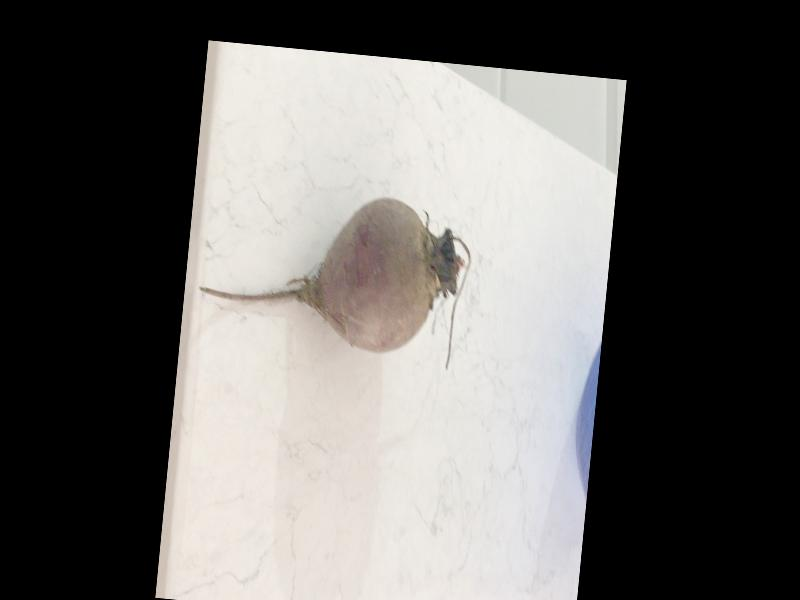Beet: (194, 182, 477, 372)
